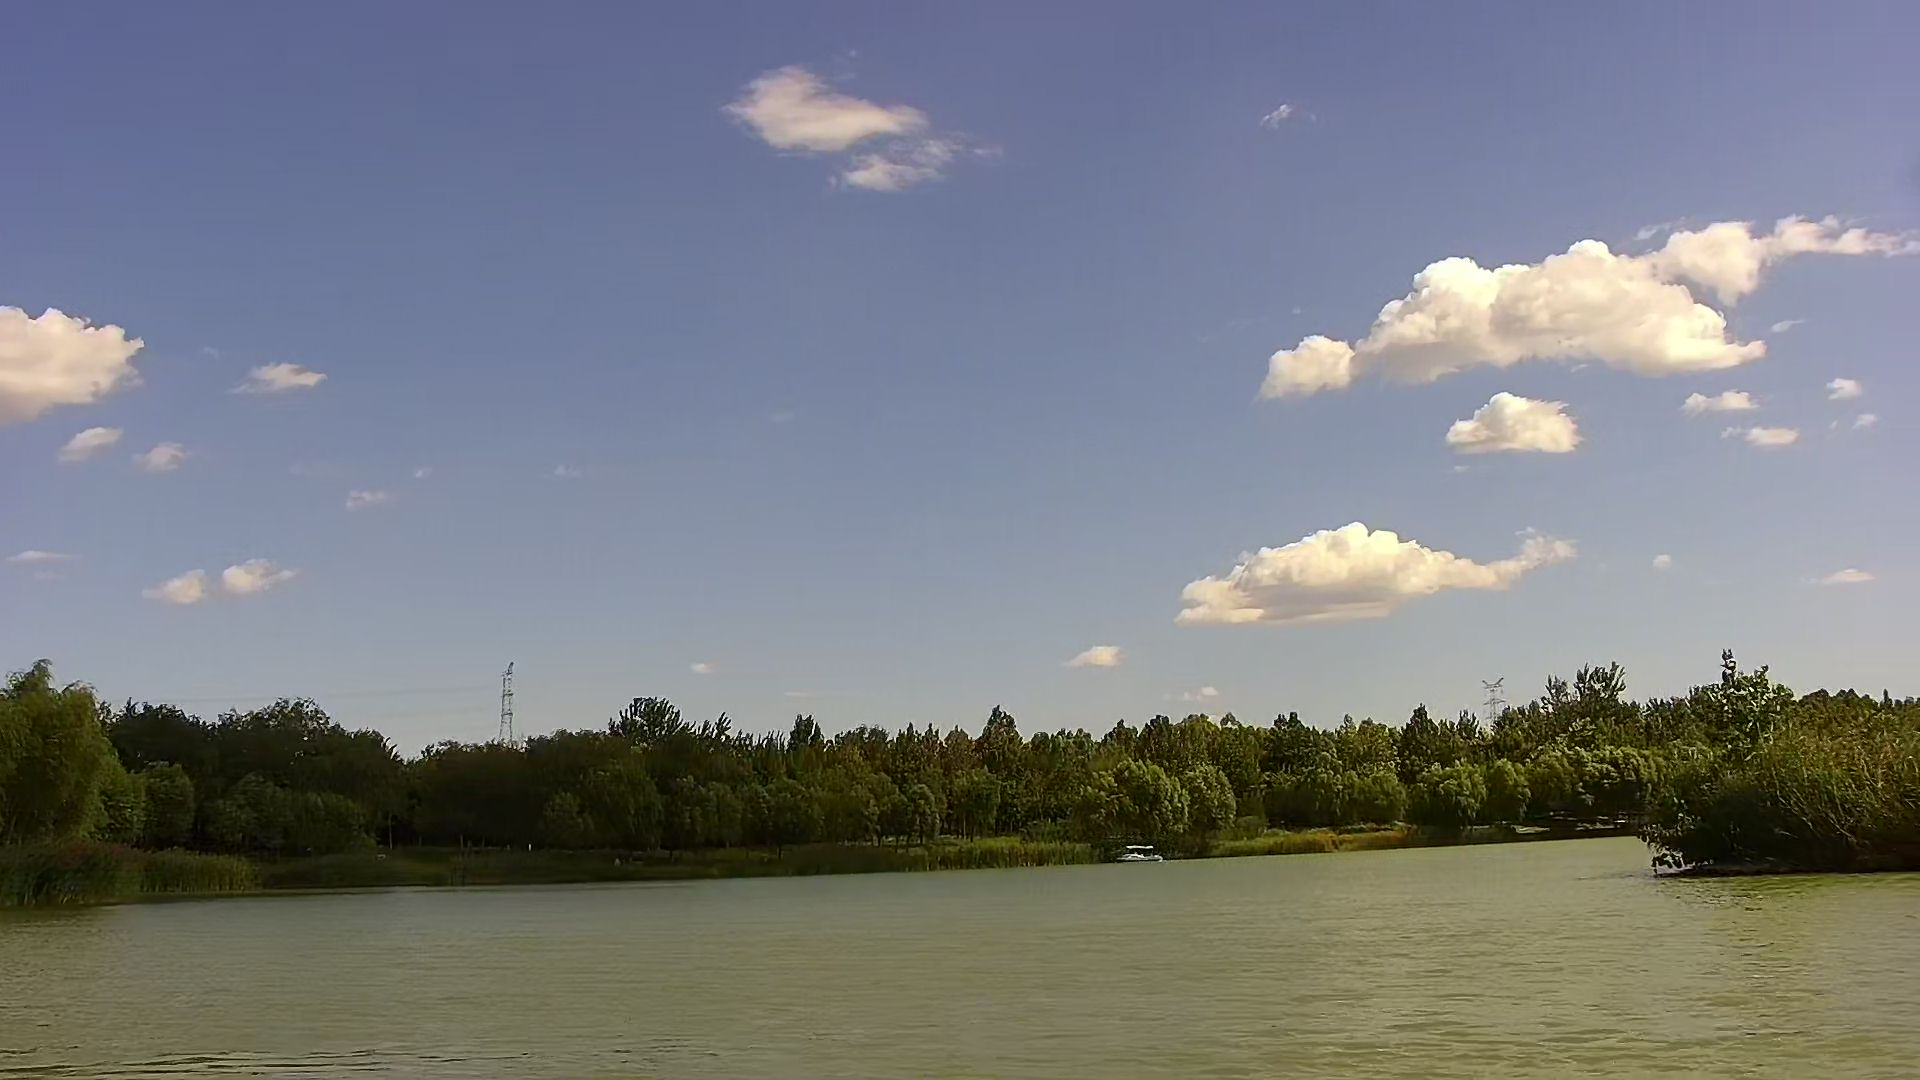boat: (1116, 847, 1160, 862)
